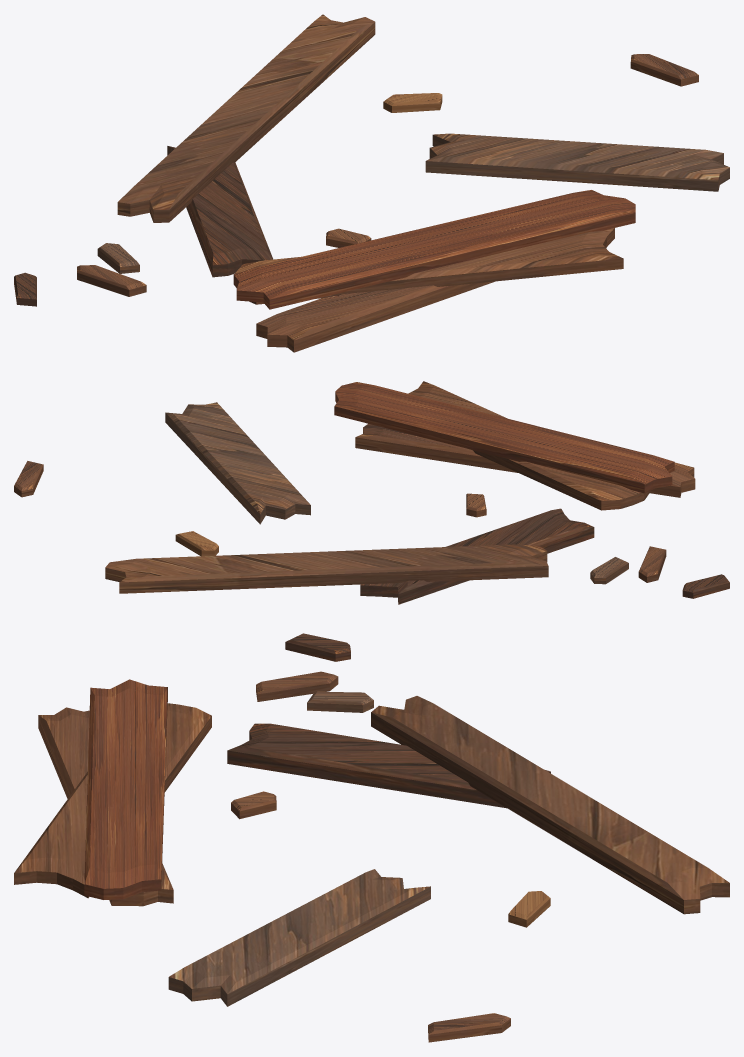
Rendered from junk_rubble_wood_f.glb.
3 renders of one model, top to bottom at view 1: azimuth 30°, elevation 25°; view 2: azimuth 150°, elevation 25°; view 3: azimuth 270°, elevation 25°, orthographic. The views are drawn at different scales.
Parts seen in each view (by area): view 1: model; view 2: model; view 3: model.
Part boxes in pixels (box(x1,y1,x2,y2)): model: box(14, 14, 729, 352); model: box(14, 381, 729, 604); model: box(14, 633, 729, 1042).
Size of the model in its own units: 1.49 by 0.0763 by 1.13.
Materials: 8 (8 with a texture image).
